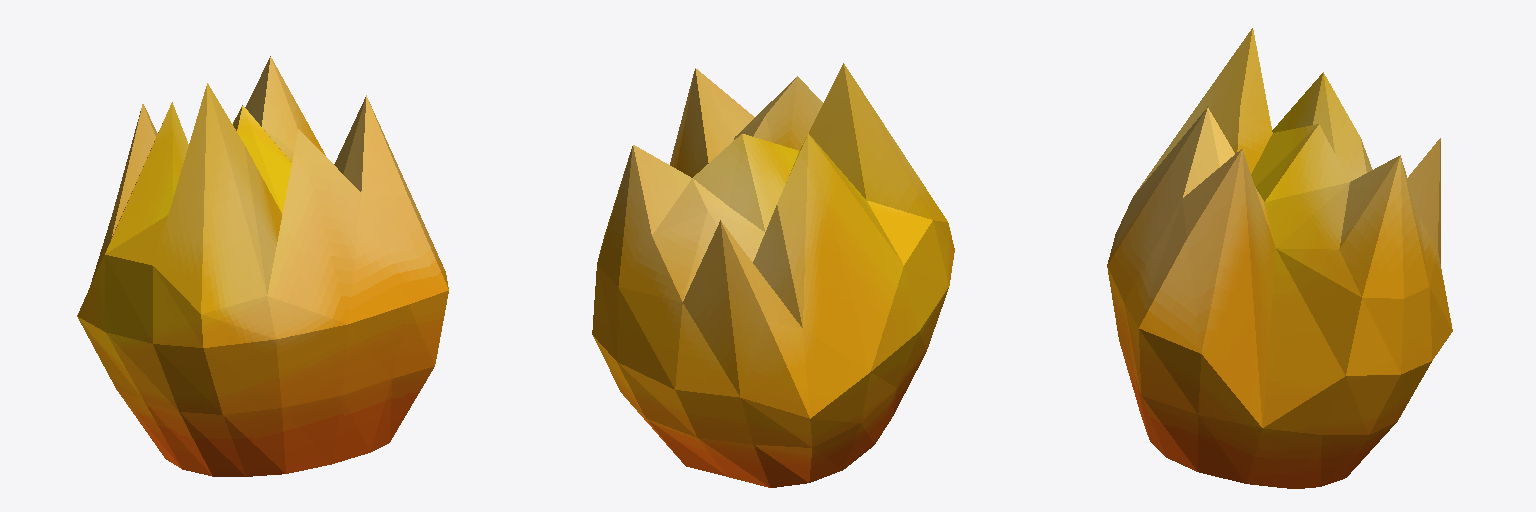
The picture shows the model from 3 angles: view 1: azimuth 30°, elevation 25°; view 2: azimuth 150°, elevation 25°; view 3: azimuth 270°, elevation 25°; orthographic projection.
Parts seen in each view (by area): view 1: Cube; view 2: Cube; view 3: Cube.
Boxes of the visible parts, <box> form: Cube: <box>77,56,448,476</box>; Cube: <box>592,63,954,487</box>; Cube: <box>1107,28,1452,488</box>.
Bounding box in the file's own units: 7.03 × 8.84 × 6.98.
Materials: 1 (1 with a texture image).